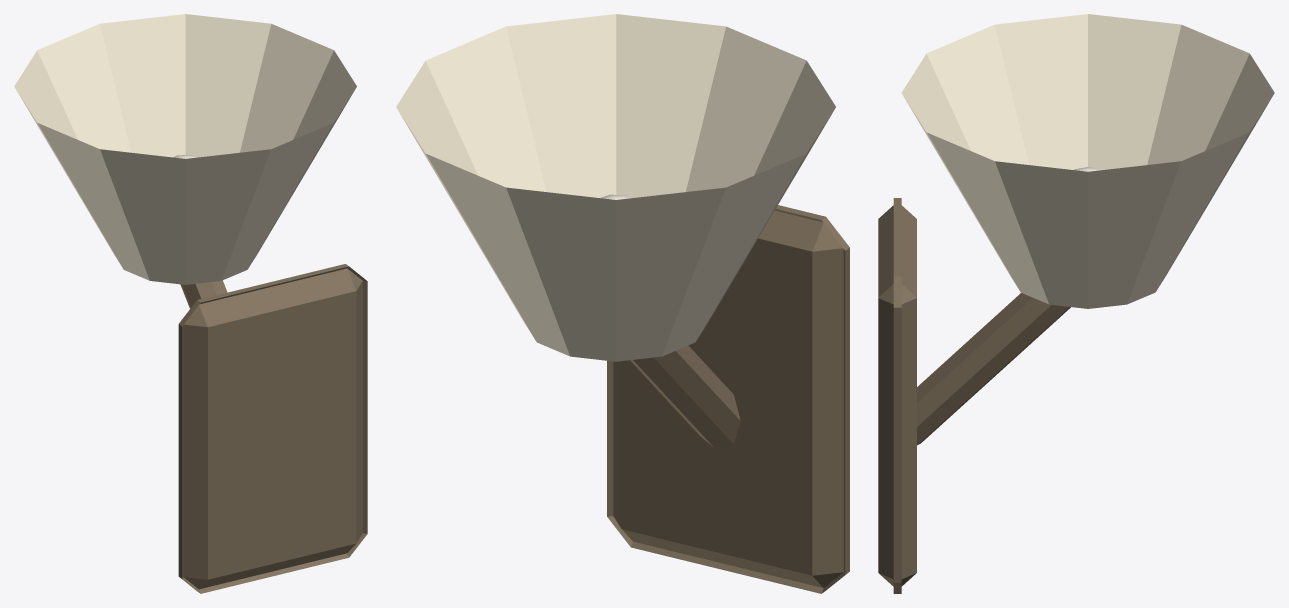
The model's file is Lamp.fbx.
3 renders of one model, left to right at view 1: azimuth 30°, elevation 25°; view 2: azimuth 150°, elevation 25°; view 3: azimuth 270°, elevation 25°, orthographic. The views are drawn at different scales.
Parts seen in each view (by area): view 1: Lamp_Arm; view 2: Lamp_Arm; view 3: Lamp_Arm.
Boxes of the visible parts, x1,y1,x2,y2 form: Lamp_Arm: (14,14,367,593); Lamp_Arm: (396,14,849,593); Lamp_Arm: (878,14,1274,593).
Bounding box in the file's own units: 48 × 65.5 × 51.
